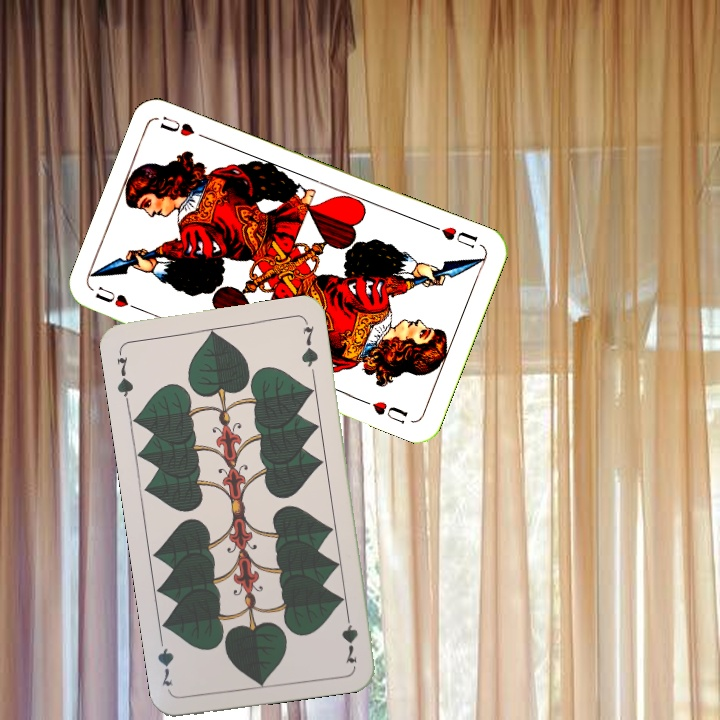G7: (337, 607, 361, 666), (112, 346, 136, 405)
HU: (91, 282, 147, 315), (427, 220, 481, 251)
